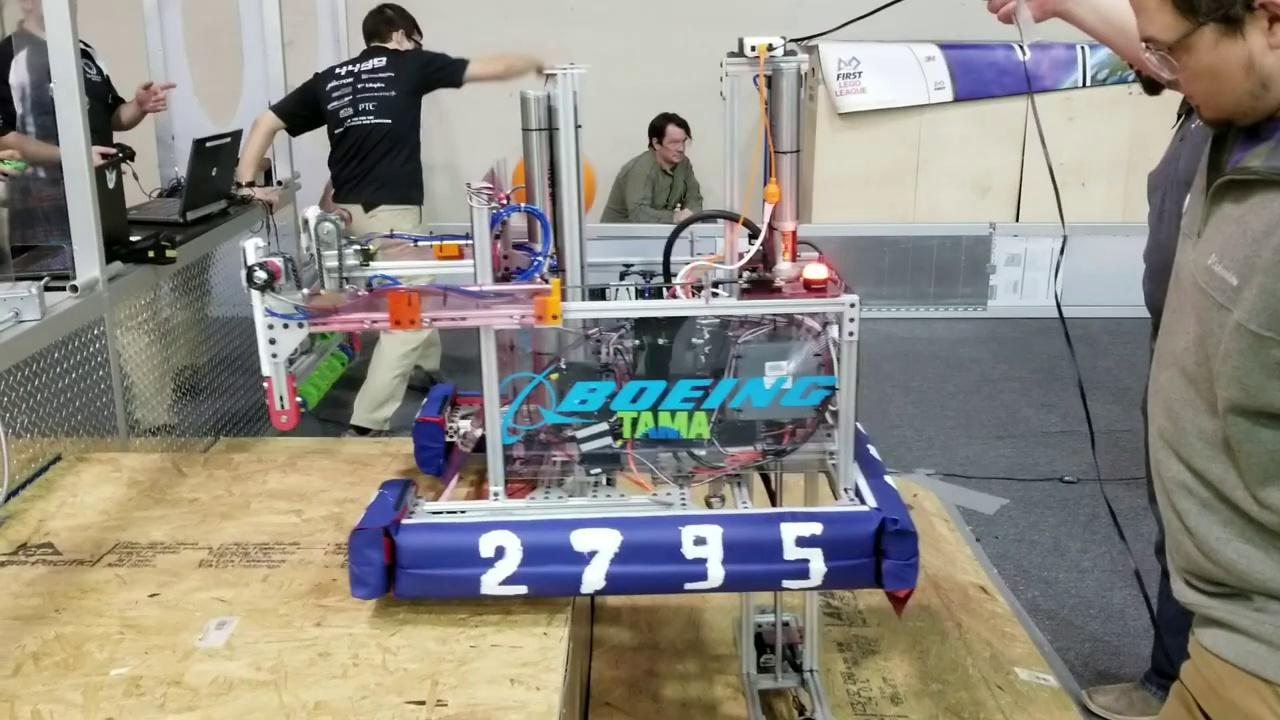robot: (243, 26, 918, 607)
